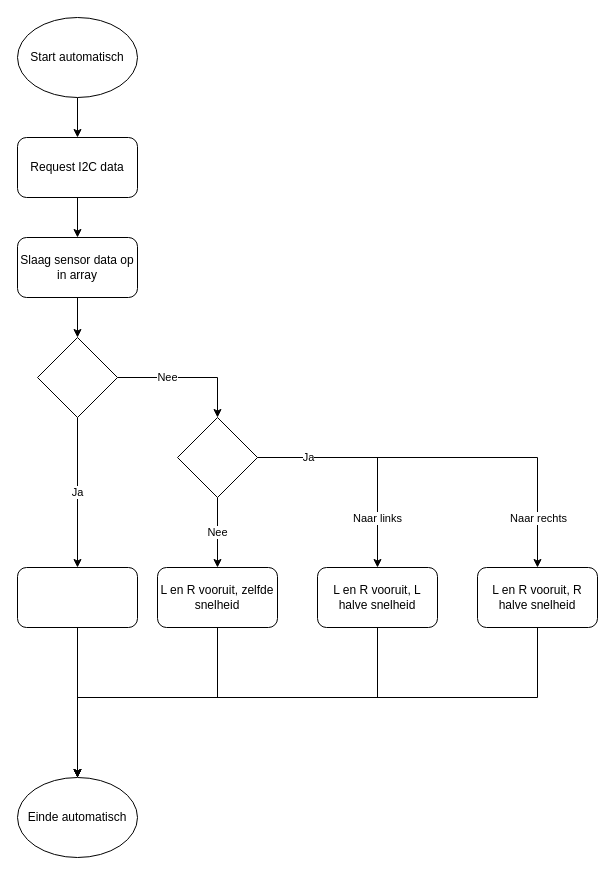
Image size: 615x875. Some labels were removed from this diagram. Here are the shapes that lost their labels. From the top down, the centre of each, then its label:
At (77,377): "Obstakel?".
At (217,457): "Afwijking?".
At (77,597): "Stop motoren".
